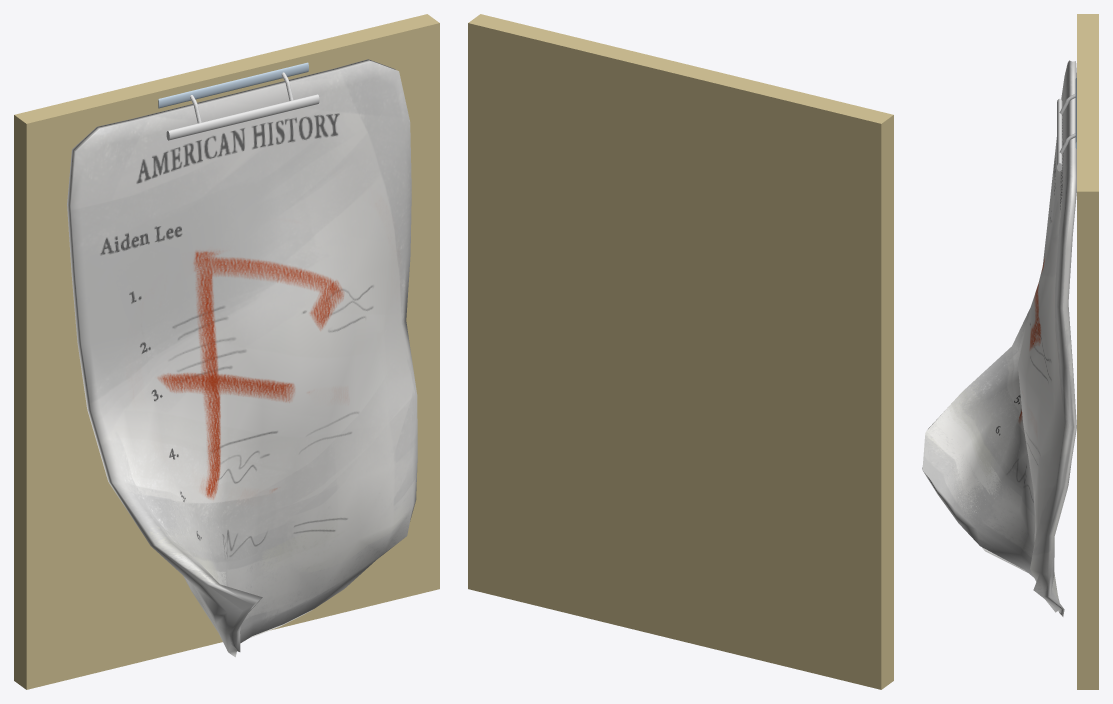
File: obstacle1 - exam3.fbx
3 views of the same model, side by side, from view 1: azimuth 30°, elevation 25°; view 2: azimuth 150°, elevation 25°; view 3: azimuth 270°, elevation 25° (orthographic). The views are drawn at different scales.
Parts seen in each view (by area): view 1: pCube1, pCube2, pCylinder1, pasted__pCylinder1; view 2: pCube2; view 3: pCube1, pCube2, pCylinder1.
Boxes of the visible parts, x1,y1,x2,y2 form: pCube1: [67, 59, 417, 657]; pCube2: [14, 14, 439, 689]; pCylinder1: [166, 94, 319, 140]; pasted__pCylinder1: [158, 62, 308, 108]; pCube2: [468, 14, 893, 689]; pCube1: [922, 60, 1076, 616]; pCube2: [1077, 14, 1098, 689]; pCylinder1: [1057, 98, 1062, 171].
Bounding box in the file's own units: 9.02 × 11.8 × 3.79.
Materials: 4 (1 with a texture image).
